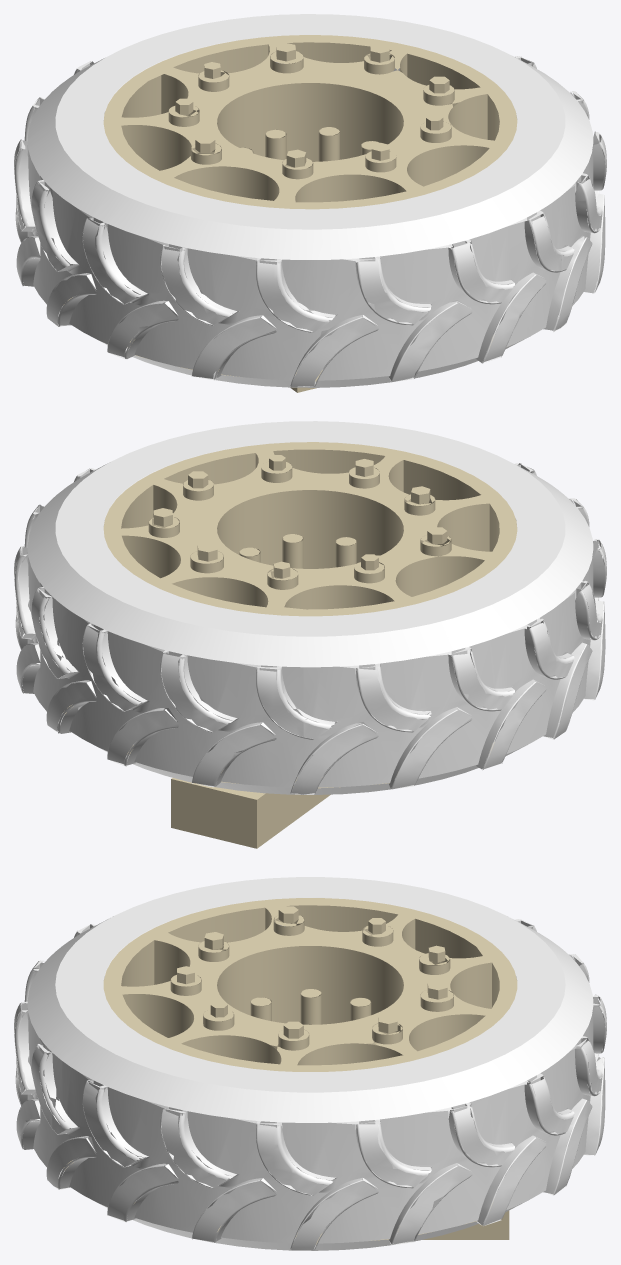
File: rear_left_wheel_visual.obj
3 renders of one model, top to bottom at view 1: azimuth 30°, elevation 25°; view 2: azimuth 150°, elevation 25°; view 3: azimuth 270°, elevation 25°, orthographic.
Parts seen in each view (by area): view 1: rear_left_wheel_visual; view 2: rear_left_wheel_visual; view 3: rear_left_wheel_visual.
Boxes of the visible parts, bbox=[...] form: rear_left_wheel_visual: bbox=[14, 14, 606, 392]; rear_left_wheel_visual: bbox=[14, 421, 606, 848]; rear_left_wheel_visual: bbox=[14, 877, 606, 1250].
Size of the model in its own units: 0.86 by 0.4066 by 0.8598.
